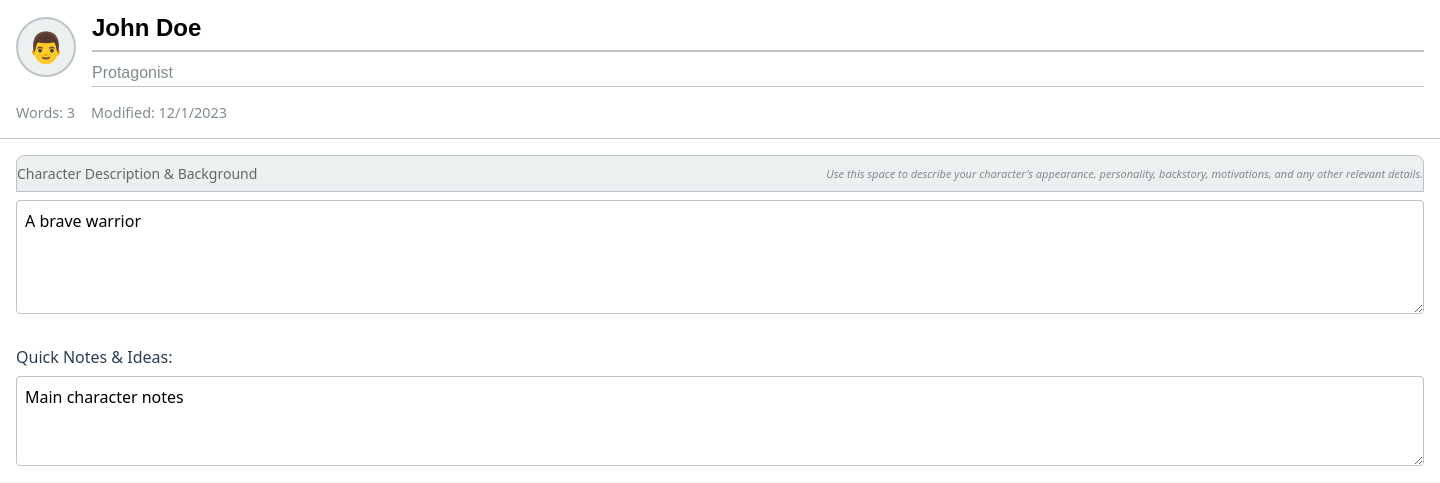
Test: CharacterEditor Component › shows avatar dropdown when clicked
Note: Use class selector to get the specific avatar element we want to click
Step 1. Click the text with class "current-avatar" → [46, 46], box [16,16,76,76]
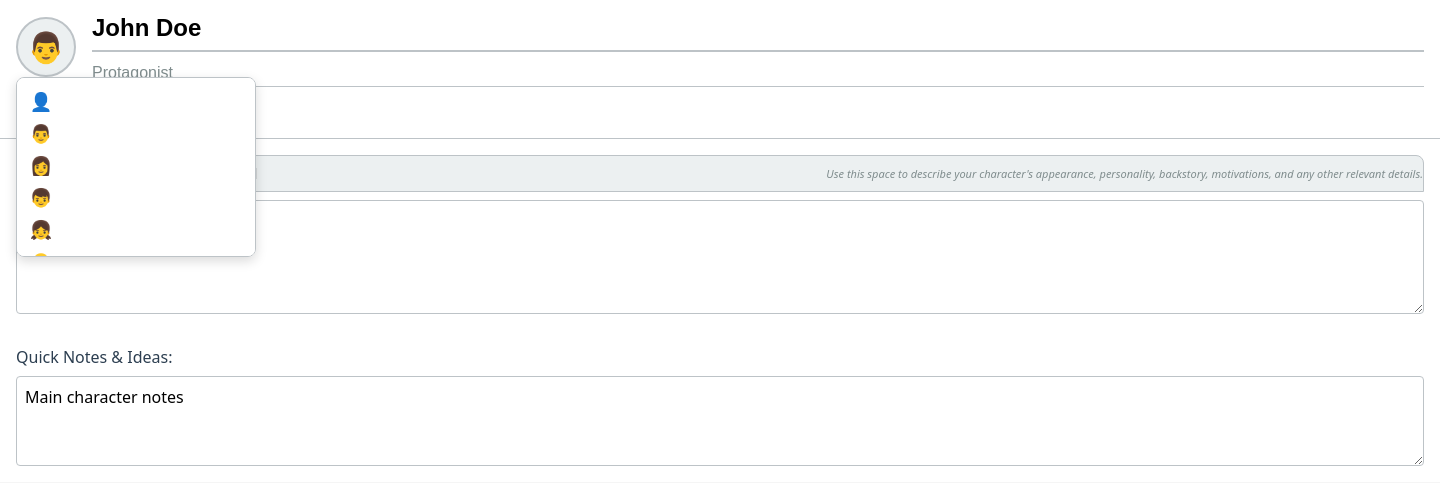
Expected: the button "👤" is shown, [25,86,57,118]
